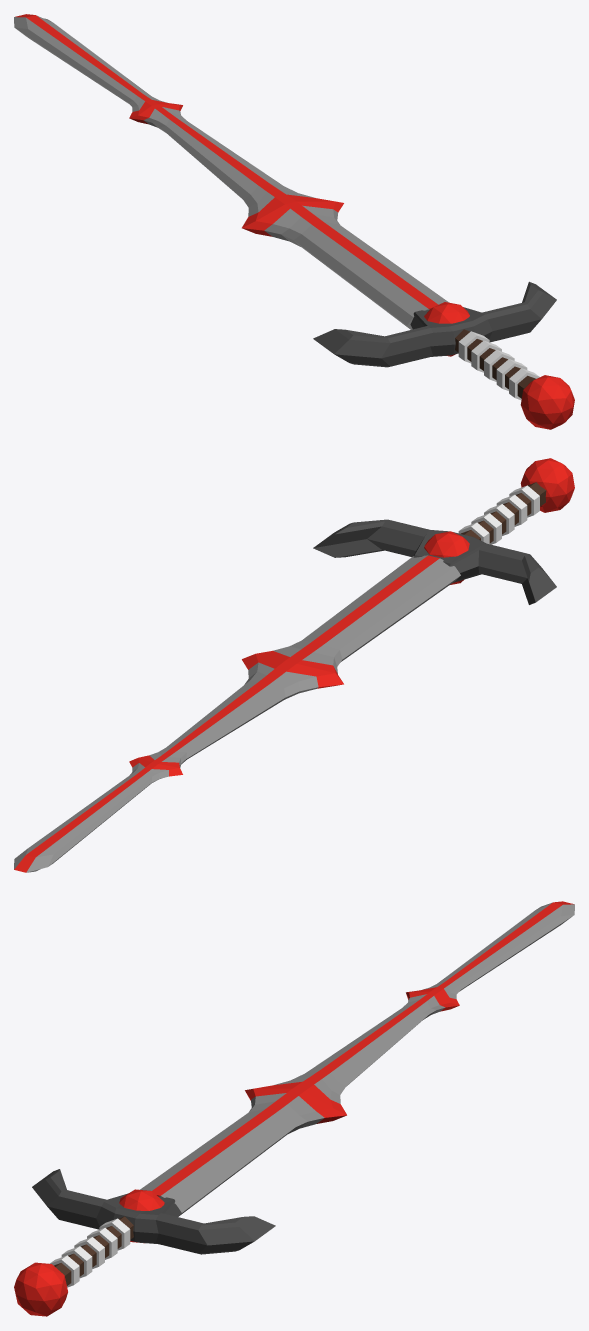
The picture shows the model from 3 angles, top to bottom: view 1: azimuth 30°, elevation 25°; view 2: azimuth 150°, elevation 25°; view 3: azimuth 330°, elevation 25°; orthographic projection.
Parts seen in each view (by area): view 1: 62; view 2: 62; view 3: 62.
Boxes of the visible parts, left/top/right/bottom form: 62: left=14, top=14, right=574, bottom=429; 62: left=14, top=458, right=574, bottom=872; 62: left=14, top=901, right=574, bottom=1316.
Bounding box in the file's own units: 17.59 × 3.79 × 73.99.
